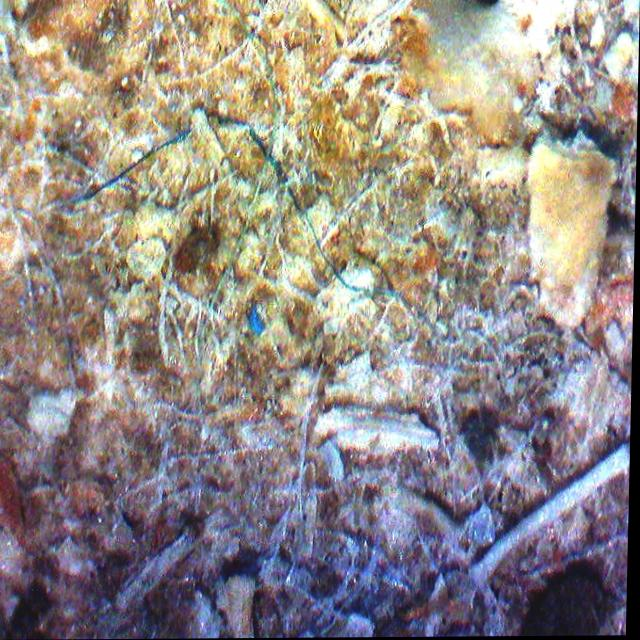microplastic: (192, 99, 466, 377), (66, 119, 196, 214), (247, 306, 268, 336)
